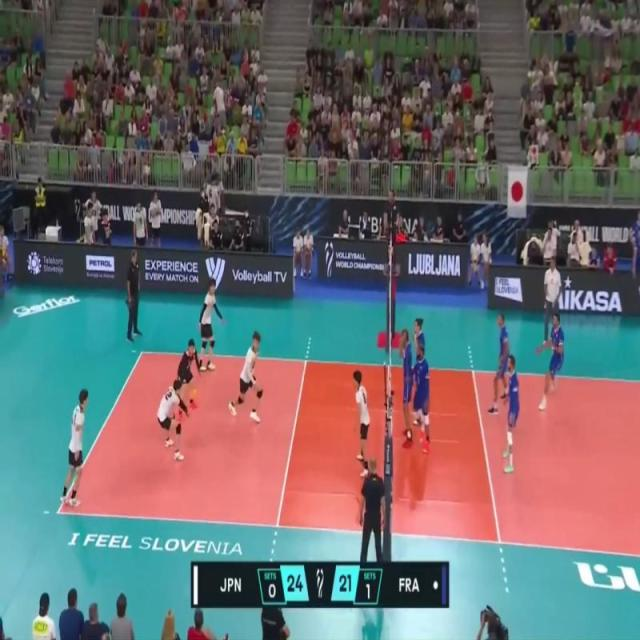volleyball: (189, 390, 200, 408)
